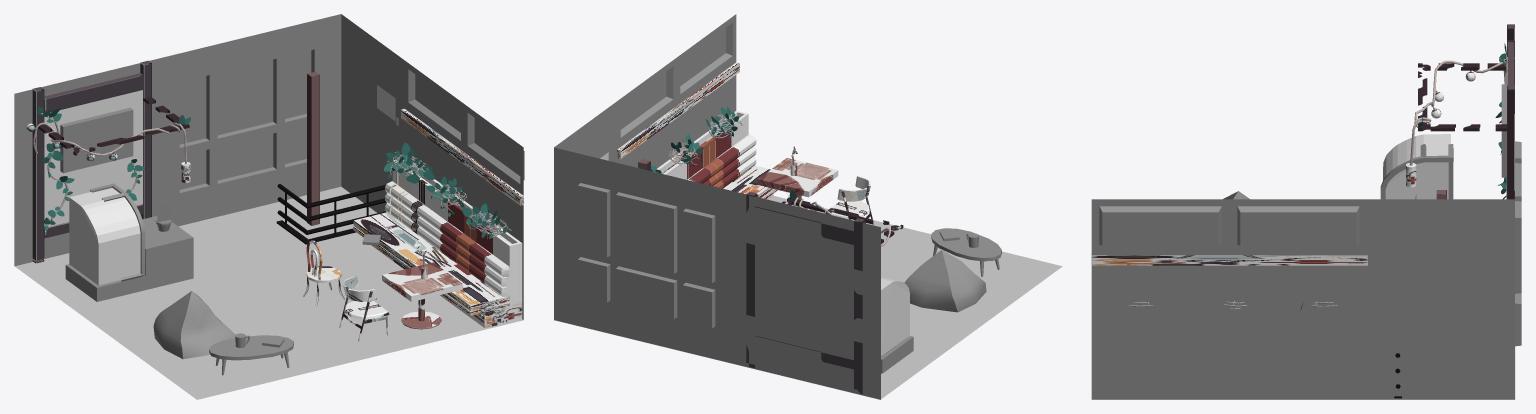
The picture shows the model from 3 angles, left to right: view 1: azimuth 30°, elevation 25°; view 2: azimuth 150°, elevation 25°; view 3: azimuth 270°, elevation 25°; orthographic projection. The views are drawn at different scales.
Visible parts, largest first — view 1: wall 2f, ground2f, Box011, Object063, Object003, Line001, Plane003, Box008, Object011, Object012, Object064, Plane004; view 2: wall 2f, ground2f, Object063, Box011, Object003, Line001, Box008; view 3: wall 2f, Box011, Line001, Object003, Object064, Object012, ground2f.
Boxes of the visible parts, bbox=[...] form: wall 2f: bbox=[14, 14, 524, 319]; ground2f: bbox=[15, 186, 523, 399]; Box011: bbox=[26, 106, 523, 327]; Object063: bbox=[153, 234, 462, 375]; Object003: bbox=[32, 60, 189, 263]; Line001: bbox=[69, 188, 140, 285]; Plane003: bbox=[44, 90, 142, 231]; Box008: bbox=[65, 203, 193, 301]; Object011: bbox=[276, 71, 386, 244]; Object012: bbox=[60, 107, 133, 173]; Object064: bbox=[90, 183, 145, 281]; Plane004: bbox=[377, 85, 398, 125]; wall 2f: bbox=[554, 14, 880, 399]; ground2f: bbox=[553, 196, 1062, 399]; Object063: bbox=[757, 146, 1001, 312]; Box011: bbox=[617, 62, 890, 246]; Object003: bbox=[746, 192, 903, 394]; Line001: bbox=[881, 277, 909, 356]; Box008: bbox=[881, 336, 913, 373]; wall 2f: bbox=[1091, 141, 1521, 399]; Box011: bbox=[1091, 43, 1507, 310]; Line001: bbox=[1383, 134, 1450, 199]; Object003: bbox=[1418, 24, 1514, 199]; Object064: bbox=[1380, 144, 1453, 199]; Object012: bbox=[1501, 84, 1507, 177]; ground2f: bbox=[1092, 346, 1515, 399].
Size of the model in its own units: 456 by 230 by 440.
